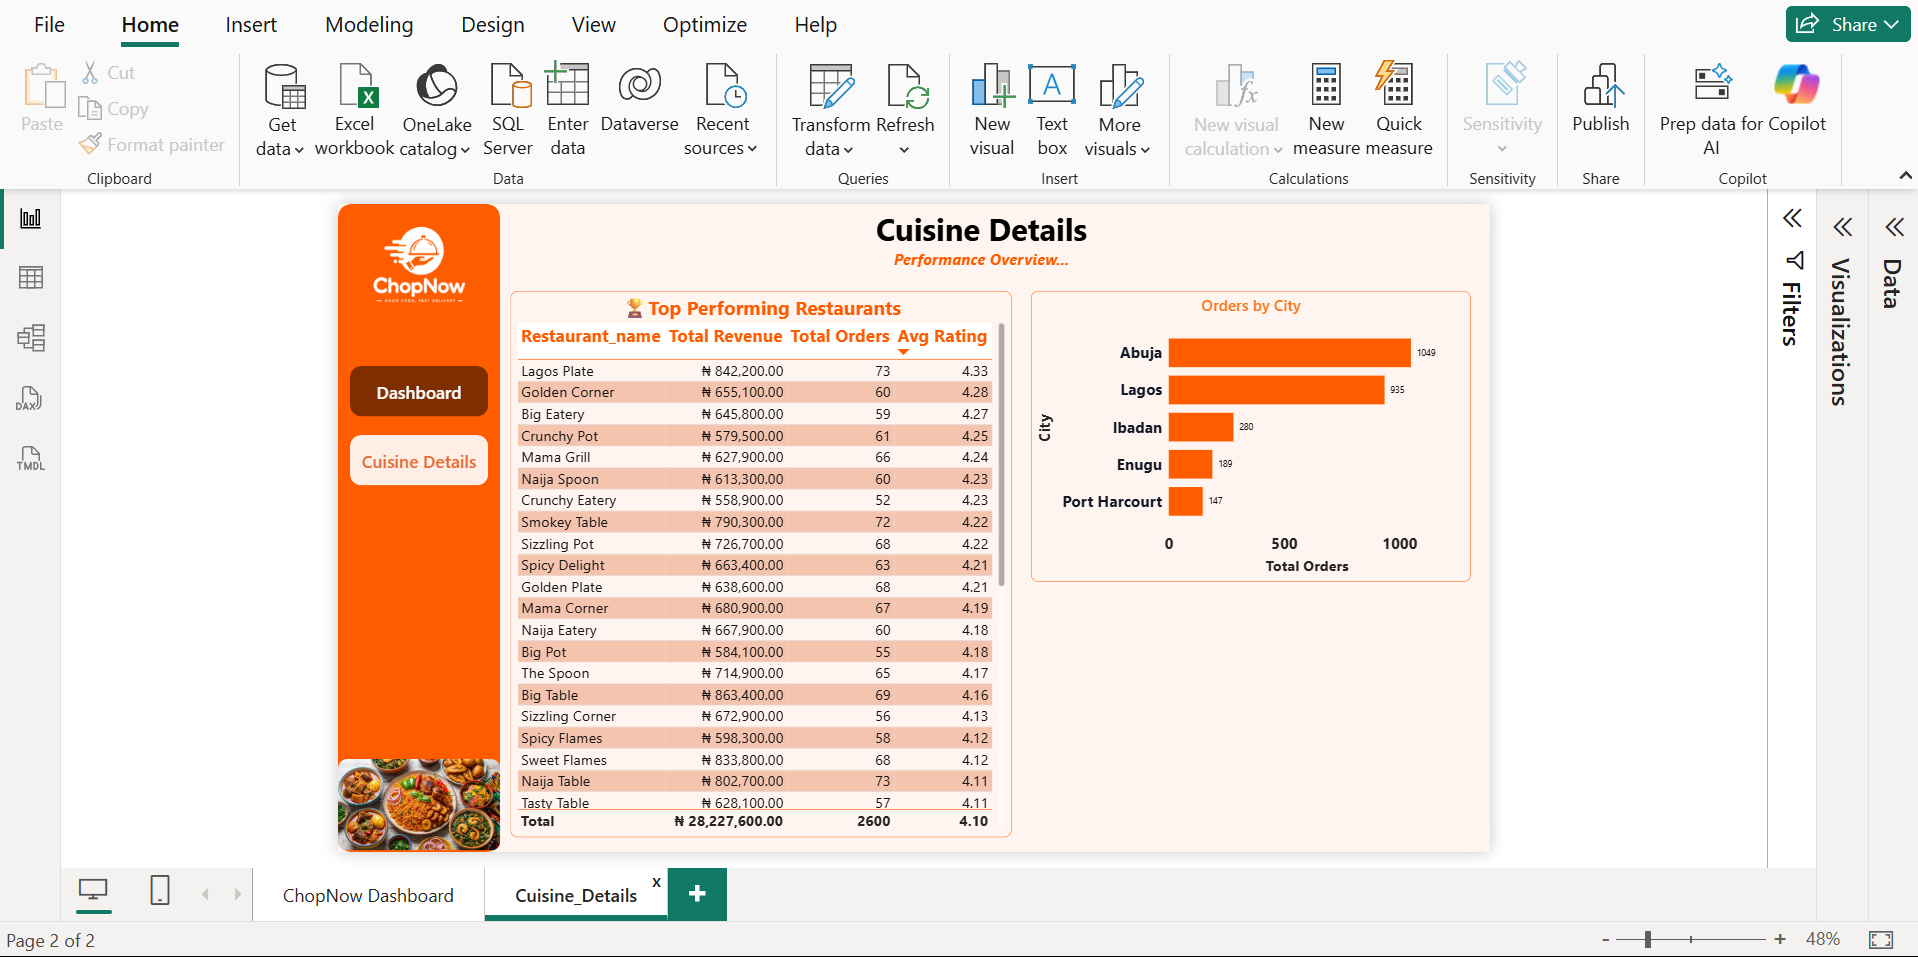

The dashboard page shown, as its layout file describes it:
{"tool":"powerbi","page":{"name":"Cuisine_Details","canvas":[1600,900],"ordinal":1},"visuals":[{"type":"barChart","title":"Orders by City","fields":{"Category":["restaurants.city"],"Y":["Measure.Total Orders"]},"box":[962.5,120.8,610.4,404.2],"z":0},{"type":"tableEx","title":"🏆Top Performing Restaurants","fields":{"Values":["restaurants.restaurant_name","Measure.Total Revenue","Measure.Total Orders","Measure.Avg Rating"]},"box":[239.6,120.8,695.8,758.3],"z":1000},{"type":"textbox","box":[729.2,0,329.2,120.8],"z":2000},{"type":"shape","box":[0,0,225,900],"z":3000},{"type":"image","box":[39.6,0,144,176],"z":4000},{"type":"actionButton","title":"Dashboard","box":[15.9,224.7,192,70],"z":5000},{"type":"actionButton","title":"Dashboard","box":[16,320,192,70],"z":6000},{"type":"image","box":[0,770.8,225,127.1],"z":7000}]}

Visuals, with their boxes on the page's 1600x900 design canvas (x1, y1, x2, y2). These are canvas units, not pixel positions in the 1918x957 screenshot, which may show the page scaled, cropped or inside an application window:
"Orders by City" barChart: l=962, t=121, r=1573, b=525
"🏆Top Performing Restaurants" tableEx: l=240, t=121, r=935, b=879
textbox: l=729, t=0, r=1058, b=121
shape: l=0, t=0, r=225, b=900
image: l=40, t=0, r=184, b=176
"Dashboard" actionButton: l=16, t=225, r=208, b=295
"Dashboard" actionButton: l=16, t=320, r=208, b=390
image: l=0, t=771, r=225, b=898
